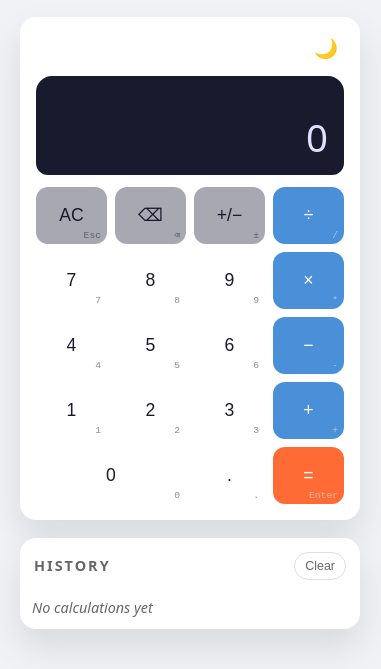
it: App › evaluates a clicked calculation
Click the button "5 5": (150, 345) x1=115 y1=317 x2=186 y2=374
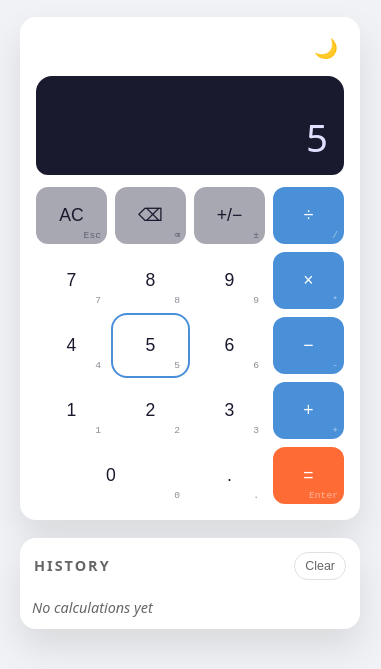
Click the button "+ +": (308, 410) x1=273 y1=382 x2=344 y2=439
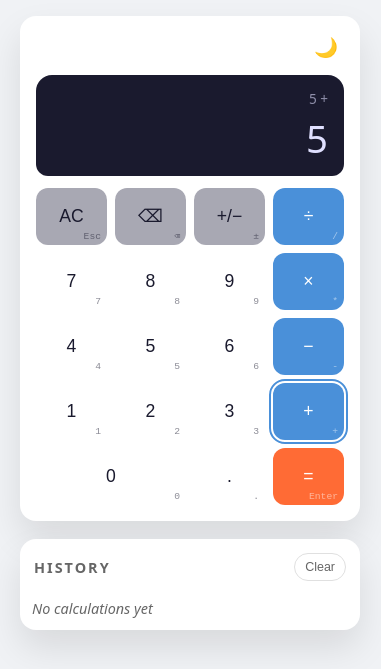
Click the button "3 3": (230, 412) x1=194 y1=383 x2=265 y2=440
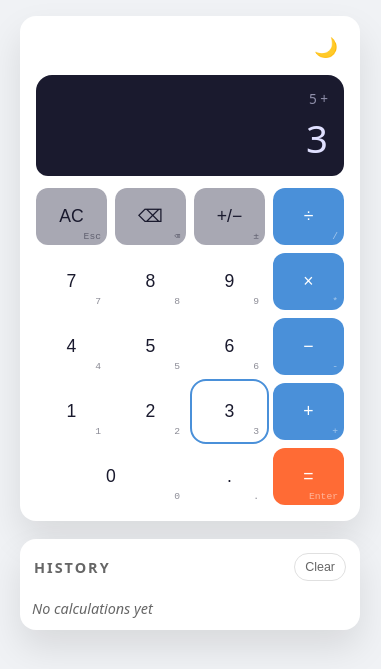
Click the button "= Enter": (308, 477) x1=273 y1=448 x2=344 y2=505
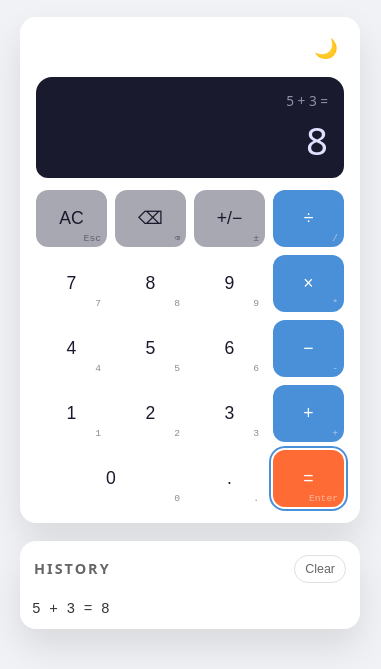
Expected: the 1st text "8" is shown, x1=306 y1=114 x2=328 y2=166
